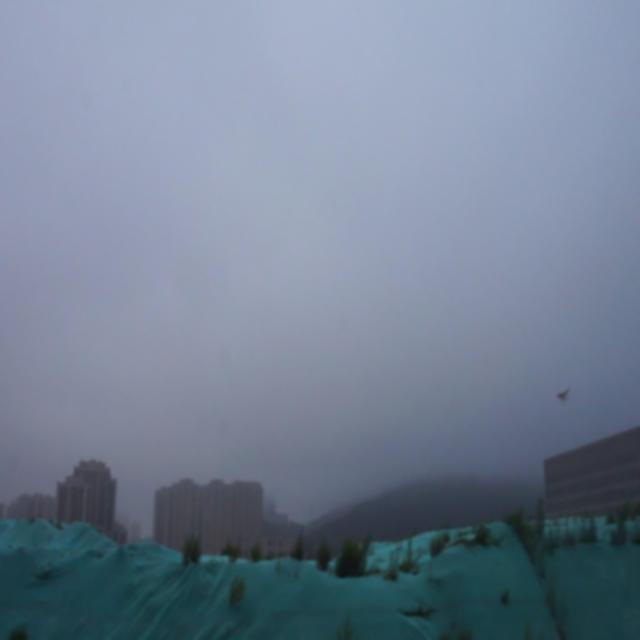UAV: (555, 387, 571, 404)
